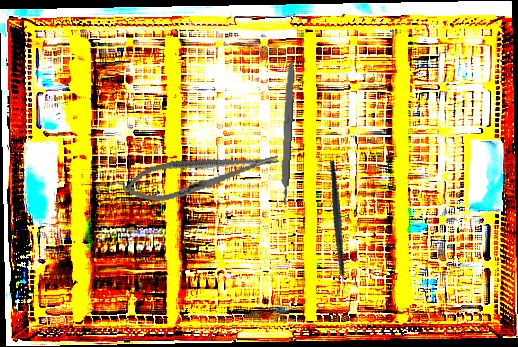Chopper: (296, 160, 386, 299)
Needle Holder: (119, 140, 283, 210)
Scalpel Handle: (278, 55, 296, 207)
